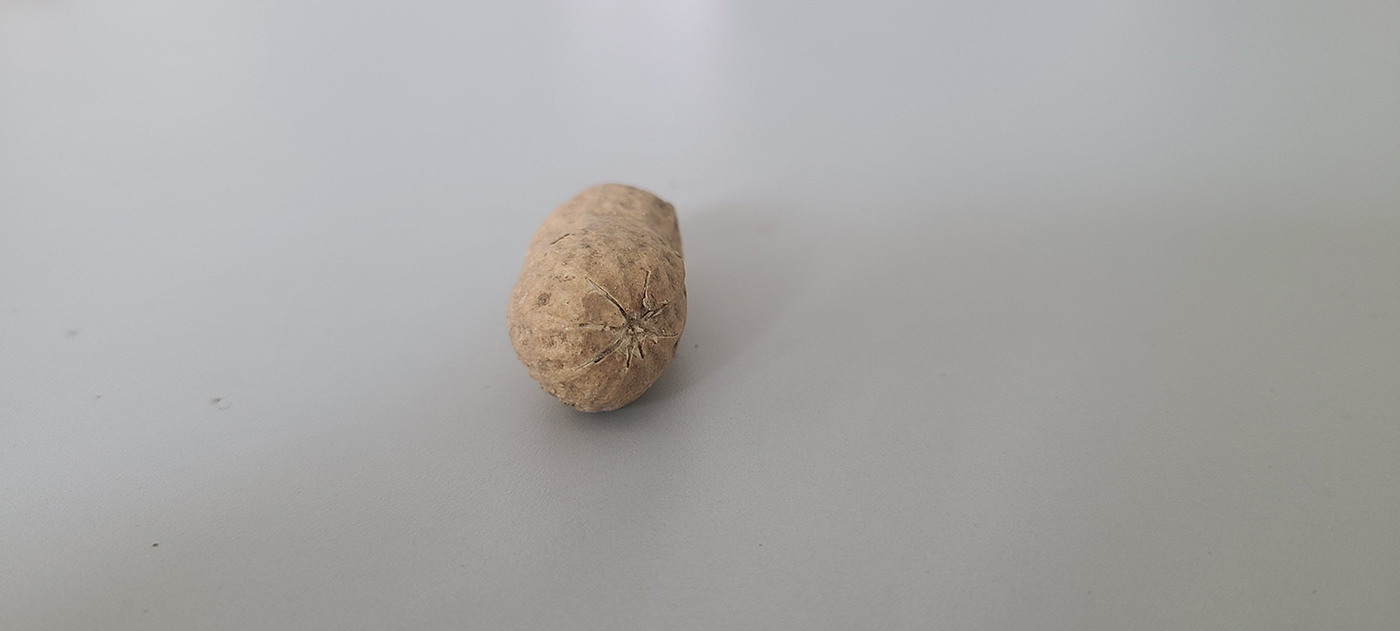h: (502, 182, 692, 414)
